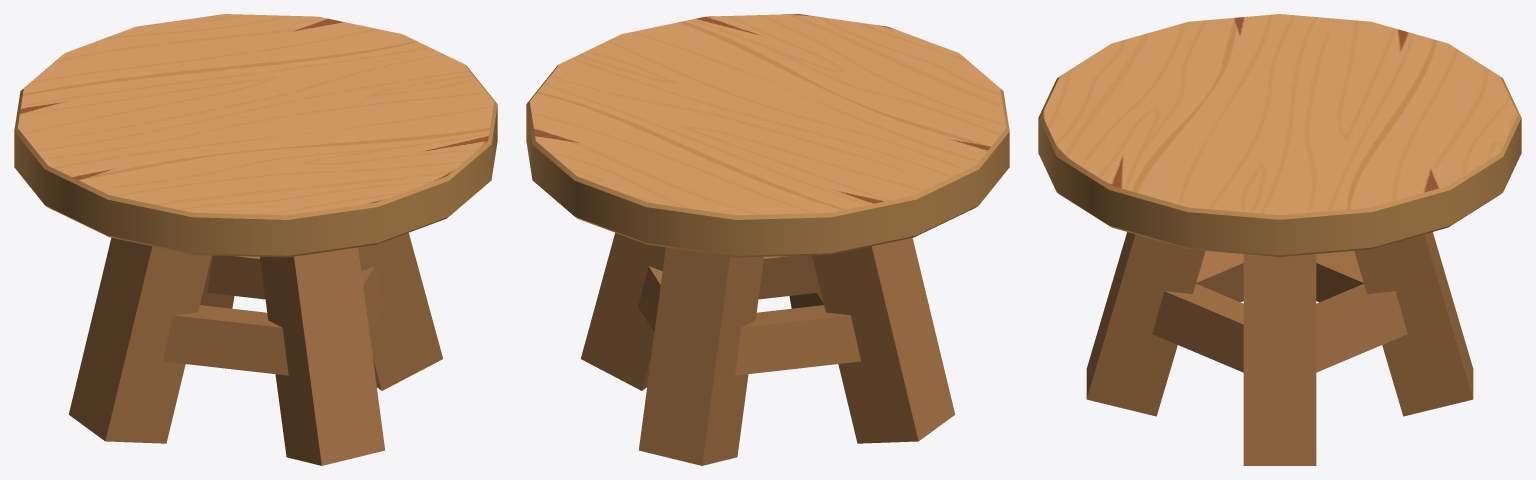
File: stool.fbx
The picture shows the model from 3 angles, left to right: view 1: azimuth 30°, elevation 25°; view 2: azimuth 150°, elevation 25°; view 3: azimuth 270°, elevation 25°; orthographic projection.
Visible parts, largest first — view 1: Stool; view 2: Stool; view 3: Stool.
Boxes of the visible parts, x1,y1,x2,y2 form: Stool: (14, 14, 497, 465); Stool: (526, 14, 1009, 465); Stool: (1038, 14, 1521, 465).
Size of the model in its own units: 200 by 131 by 200.
Materials: 3 (1 with a texture image).
